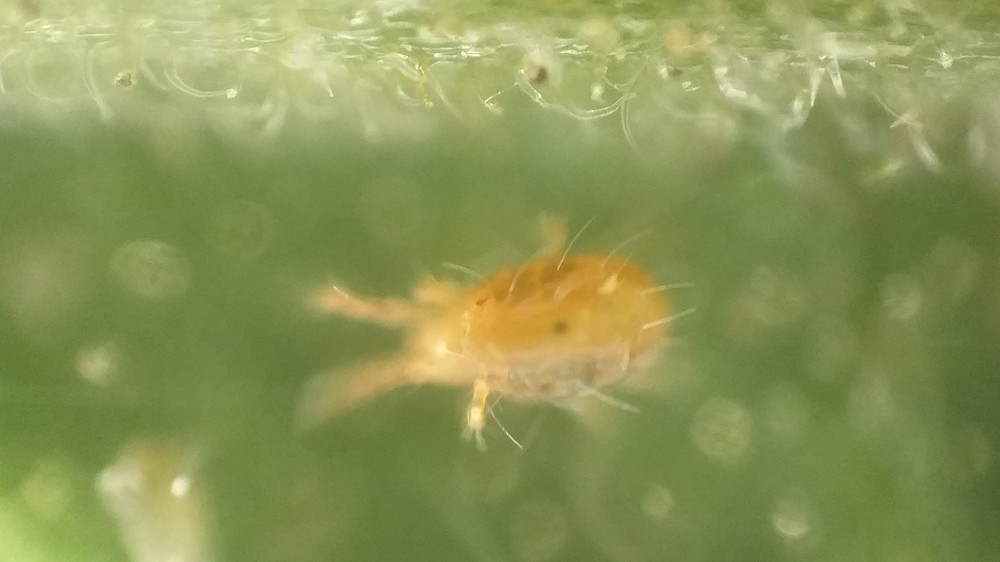Aracnido Rojo: (289, 195, 765, 472)
